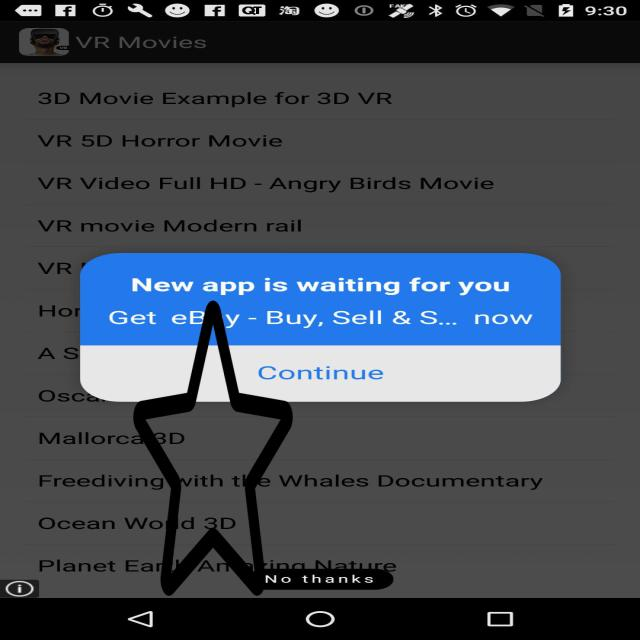forced continuity: (133, 294, 293, 602)
